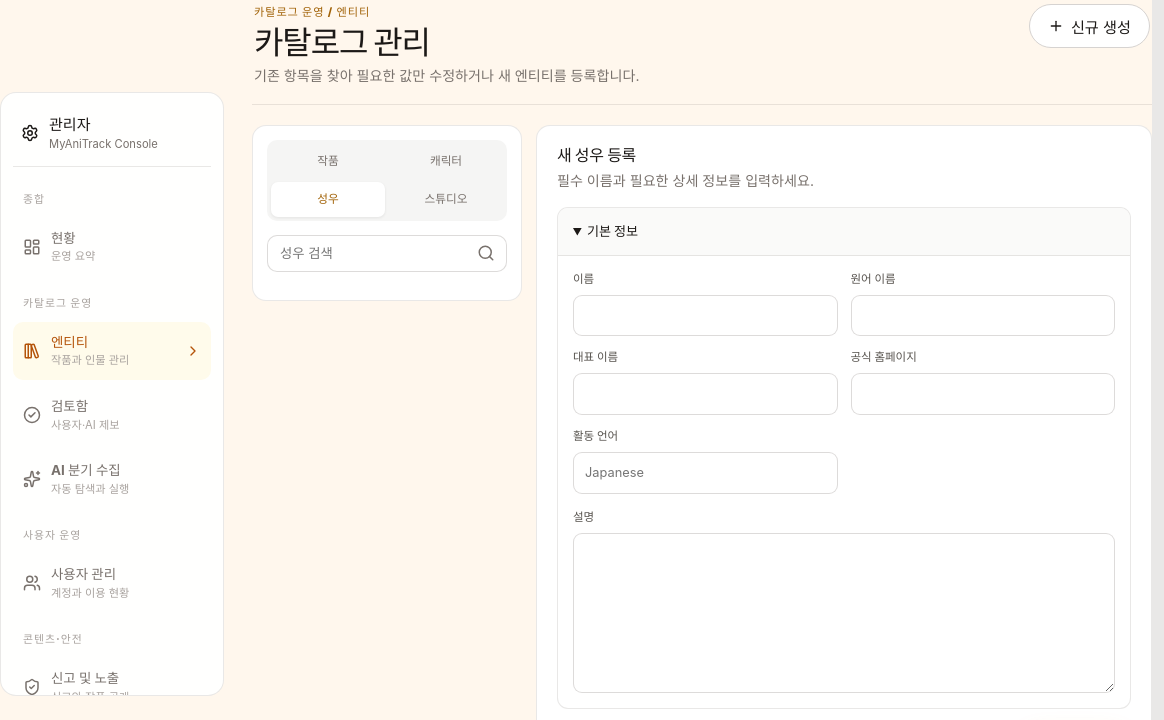
admin console › loads the complete VOICE_ACTOR source record after selecting a search result
In the search field with placeholder "성우 검색": (367, 253) [268, 236, 466, 271], type "테스트 성우"
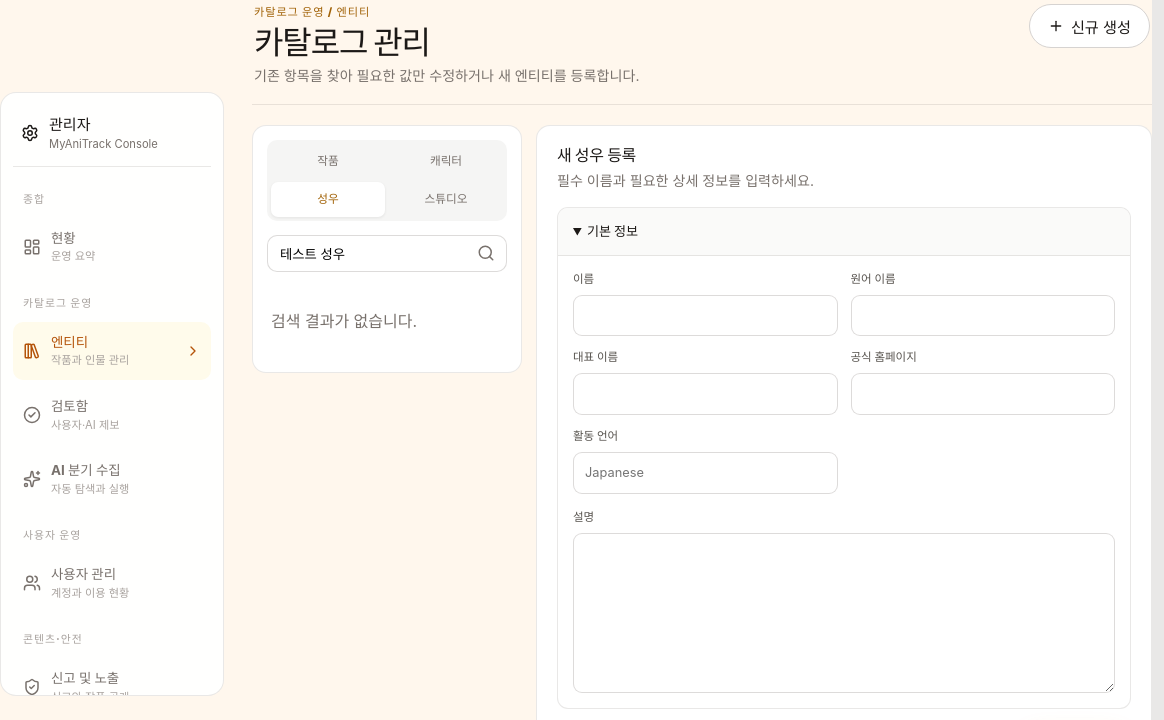
Click the button named "검색": (486, 253) [466, 236, 506, 271]
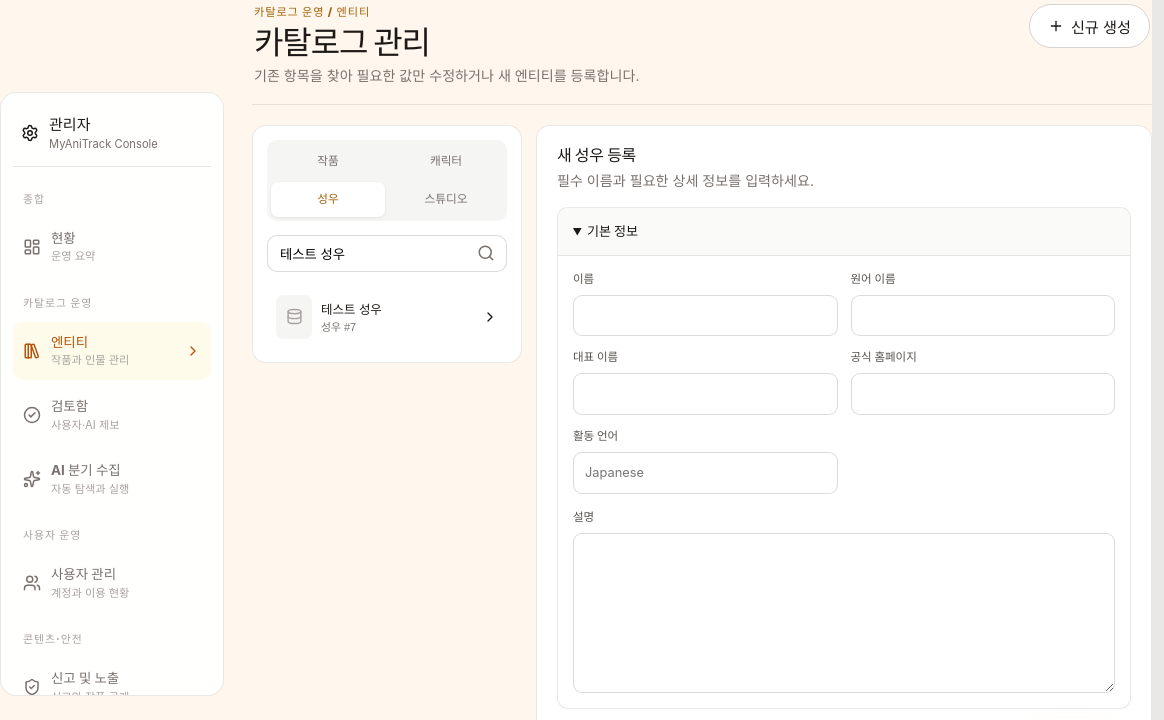
Click the button "테스트 성우 성우 #7": (387, 317) [267, 286, 507, 348]
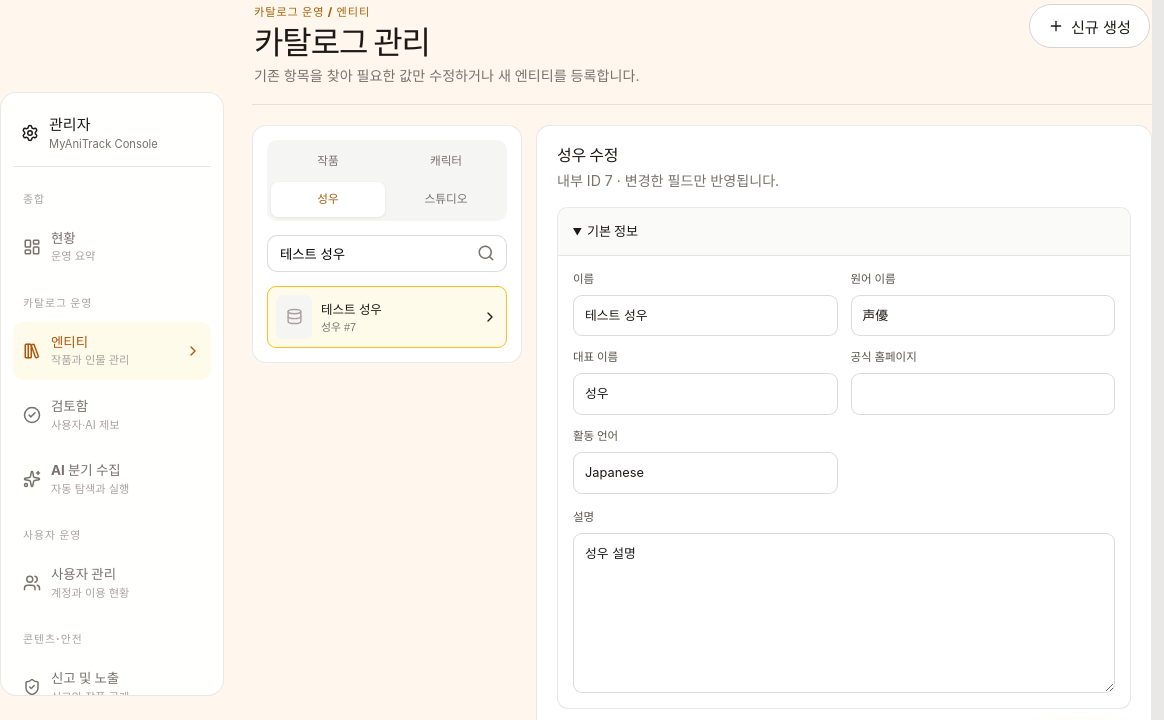
Expected: the text "내부 ID 7 · 변경한 필드만 반영됩니다." is shown, [557, 170, 779, 191]
